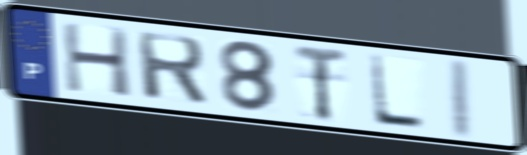8: (216, 39, 279, 114)
H: (59, 19, 135, 100)
I: (448, 56, 476, 142)
L: (366, 51, 428, 133)
R: (133, 29, 210, 108)
T: (291, 42, 349, 123)
